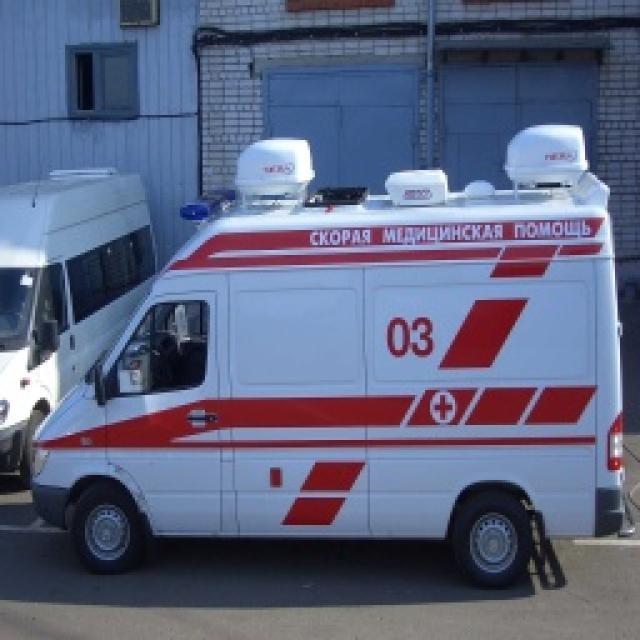emergency-vehicle: (16, 125, 636, 623)
